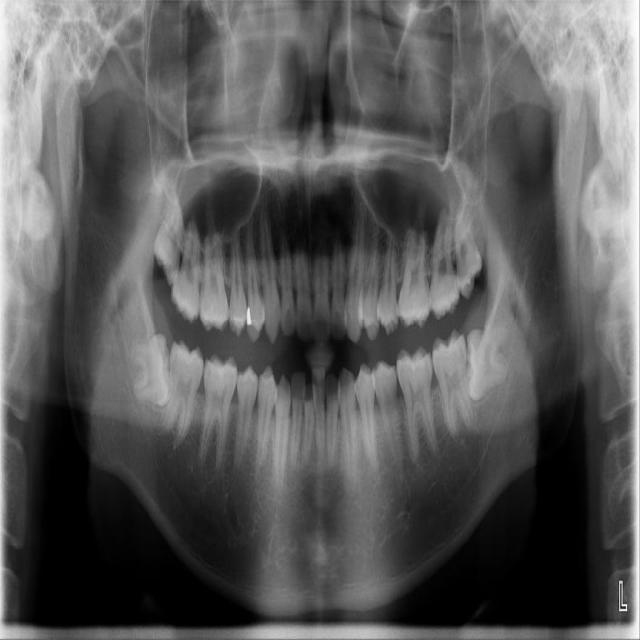3M ESPE Implant: (154, 193, 181, 284)
52: (245, 290, 267, 343)
73: (601, 548, 612, 572)
BioHorizons Implant: (428, 208, 462, 321)
BioLife Implant: (453, 204, 484, 299)
Biomet 3i Implant: (464, 322, 508, 403)
Blue Sky Bio Implant: (429, 327, 476, 440)
Caries: (169, 221, 200, 321)
Implant: (158, 339, 208, 448)
Keystone Dental Implant: (128, 332, 177, 410)
